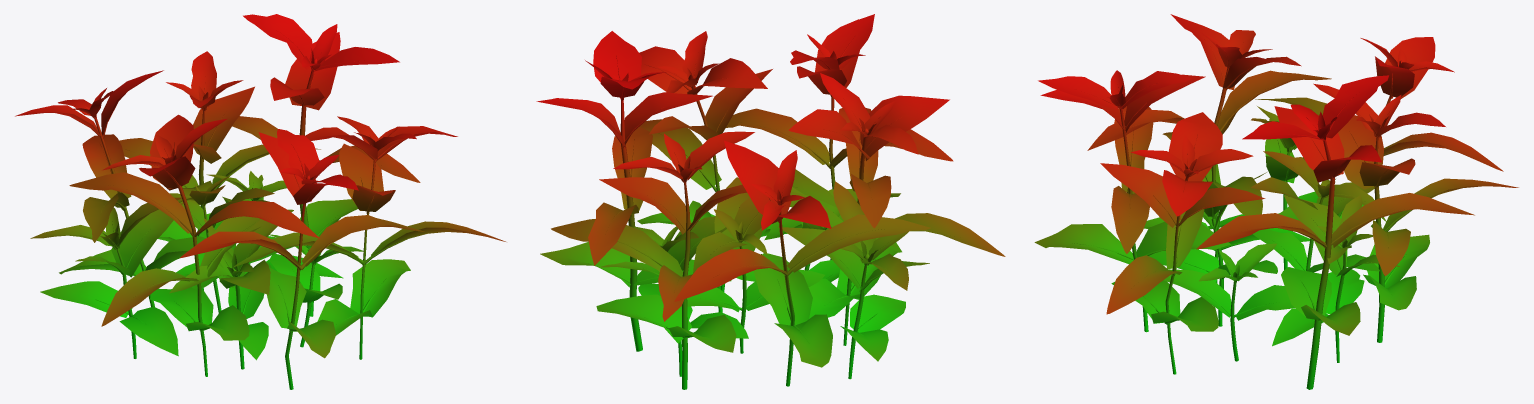
Rendered from Var5_LOD1.fbx.
3 views of the same model, side by side, from view 1: azimuth 30°, elevation 25°; view 2: azimuth 150°, elevation 25°; view 3: azimuth 270°, elevation 25° (orthographic). The views are drawn at different scales.
Visible parts, largest first — view 1: _ksq9_Var5_LOD1; view 2: _ksq9_Var5_LOD1; view 3: _ksq9_Var5_LOD1.
Boxes of the visible parts, box(x1,y1,x2,y2) form: _ksq9_Var5_LOD1: box(15, 14, 505, 389); _ksq9_Var5_LOD1: box(536, 14, 1005, 389); _ksq9_Var5_LOD1: box(1034, 14, 1518, 389).
Bounding box in the file's own units: 30.77 × 21.89 × 32.29.
